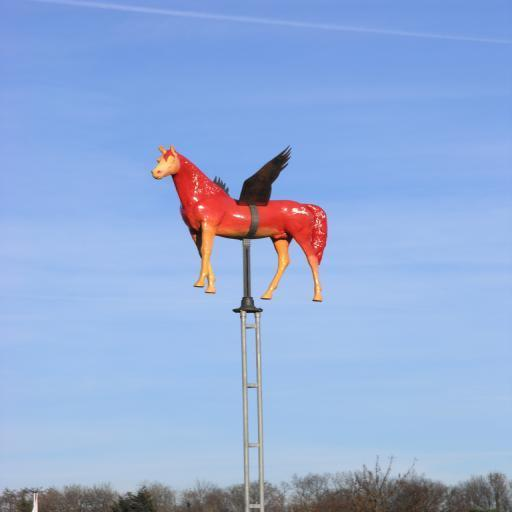horse: (150, 144, 330, 302)
